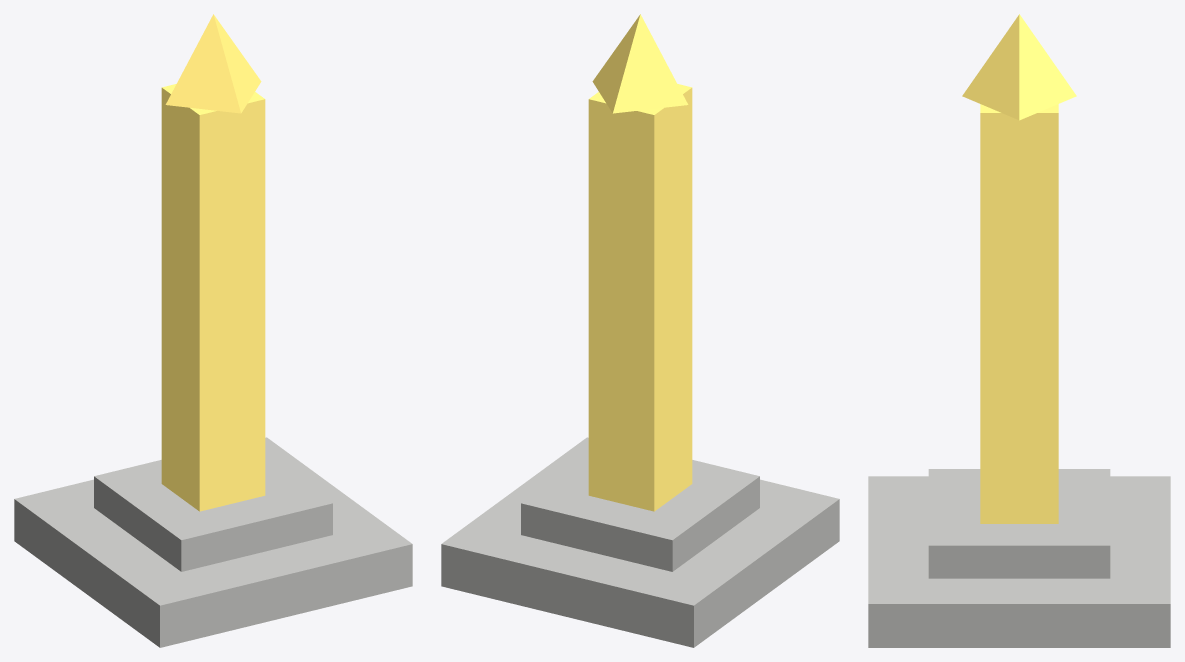
The model's file is monument.glb.
3 views of the same model, side by side, from view 1: azimuth 30°, elevation 25°; view 2: azimuth 150°, elevation 25°; view 3: azimuth 270°, elevation 25° (orthographic). The views are drawn at different scales.
Parts seen in each view (by area): view 1: monument; view 2: monument; view 3: monument.
Boxes of the visible parts, <box> form: monument: <box>14,14,412,647</box>; monument: <box>441,14,839,647</box>; monument: <box>868,14,1170,647</box>.
Size of the model in its own units: 1 by 2.08 by 1.
